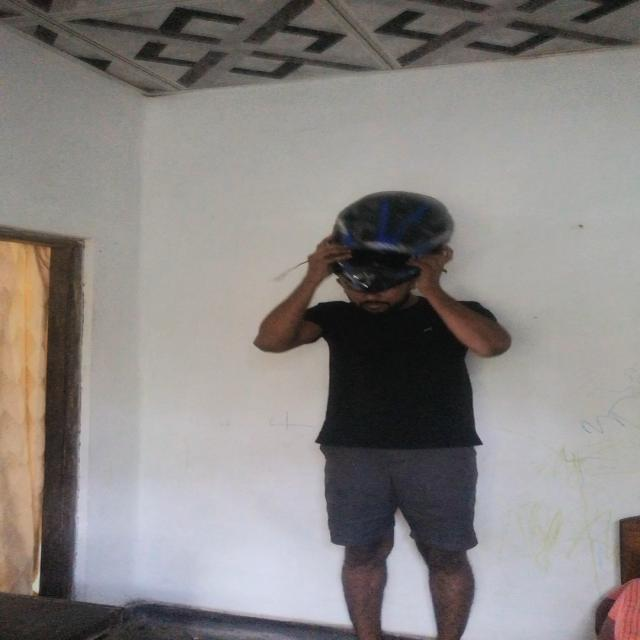Person: (266, 216, 533, 640)
